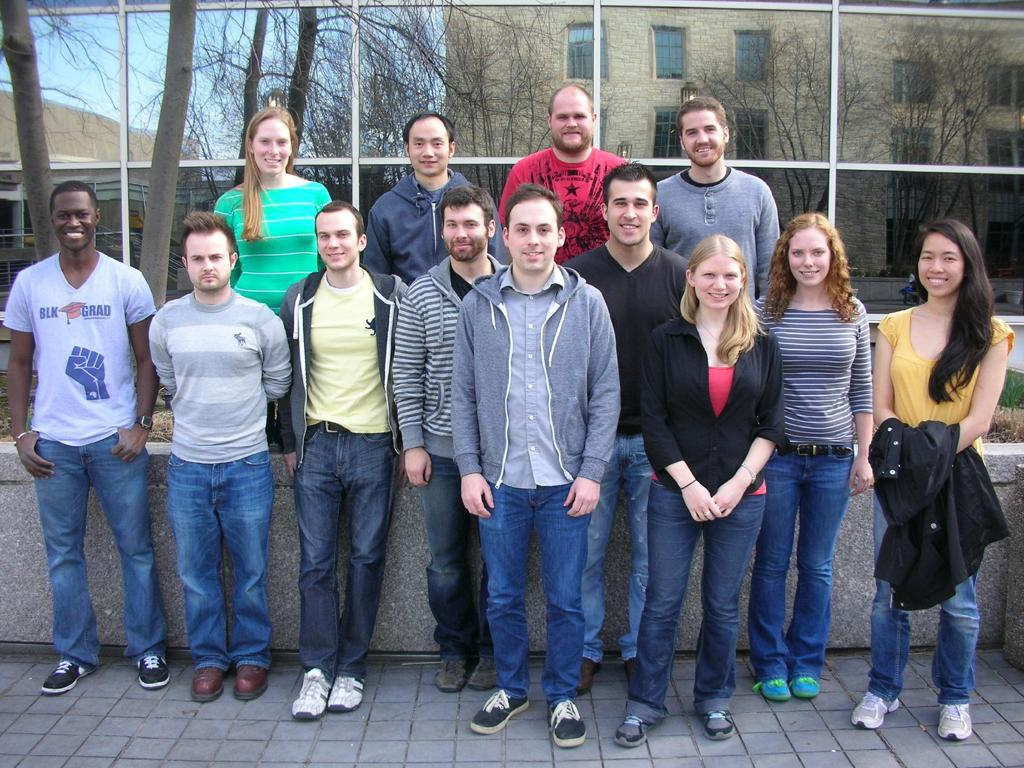face: (510, 201, 558, 272), (607, 181, 652, 246), (919, 234, 965, 295), (551, 88, 593, 153), (186, 233, 230, 291), (52, 192, 96, 250), (317, 211, 358, 270), (444, 206, 487, 262), (695, 257, 741, 308), (409, 118, 449, 175), (682, 112, 724, 166), (789, 231, 830, 286), (254, 120, 290, 174)
